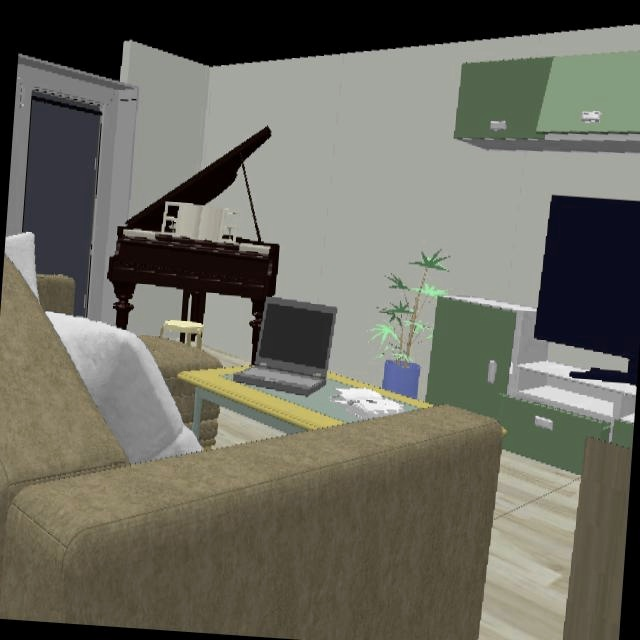book: (337, 388, 414, 419)
cabinet: (426, 296, 636, 475), (453, 50, 640, 153)
laptop: (239, 297, 338, 395)
monitor: (532, 194, 640, 379)
pillow: (44, 311, 202, 465), (4, 231, 39, 301)
sofa: (0, 254, 505, 640), (561, 438, 632, 640)
table: (176, 368, 418, 429)
